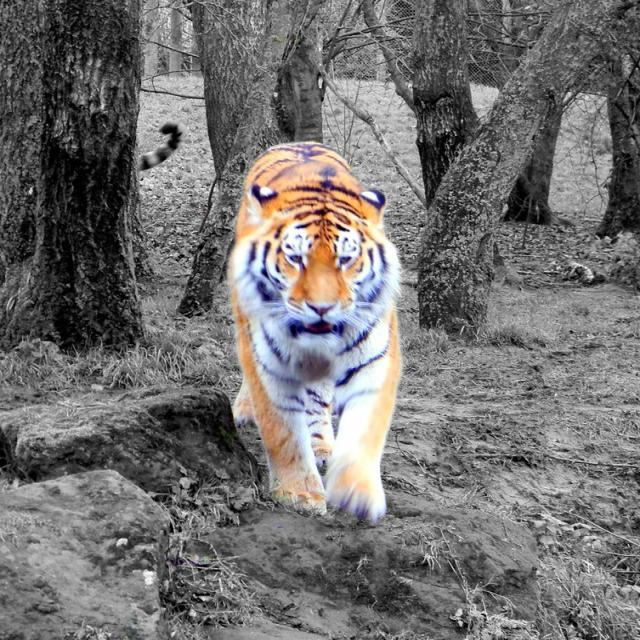Tiger: (221, 133, 403, 521)
